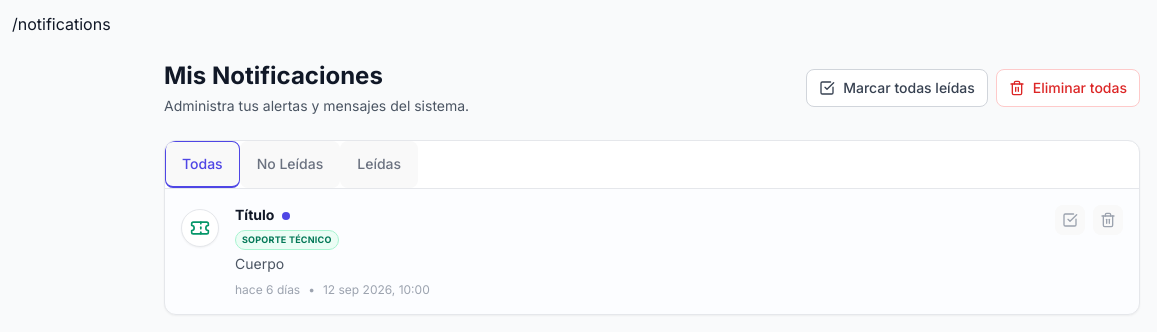
Notifications page — click and mark-as-read behavior is preserved › clicking a Soporte técnico notification navigates to /support-tickets/{id}, never /tickets/{id}
Click the heading "Título" at (263, 214), box [235, 206, 290, 223]
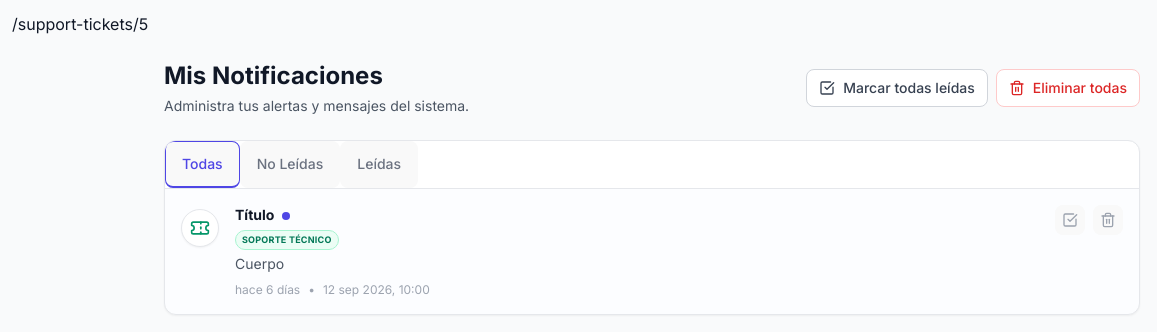
Expected: the text with test id "location-probe" reads "/support-tickets/5", [12, 14, 148, 34]
